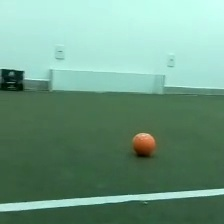ball: (129, 129, 159, 158)
goal: (46, 67, 166, 97)
robot: (1, 66, 25, 93)
